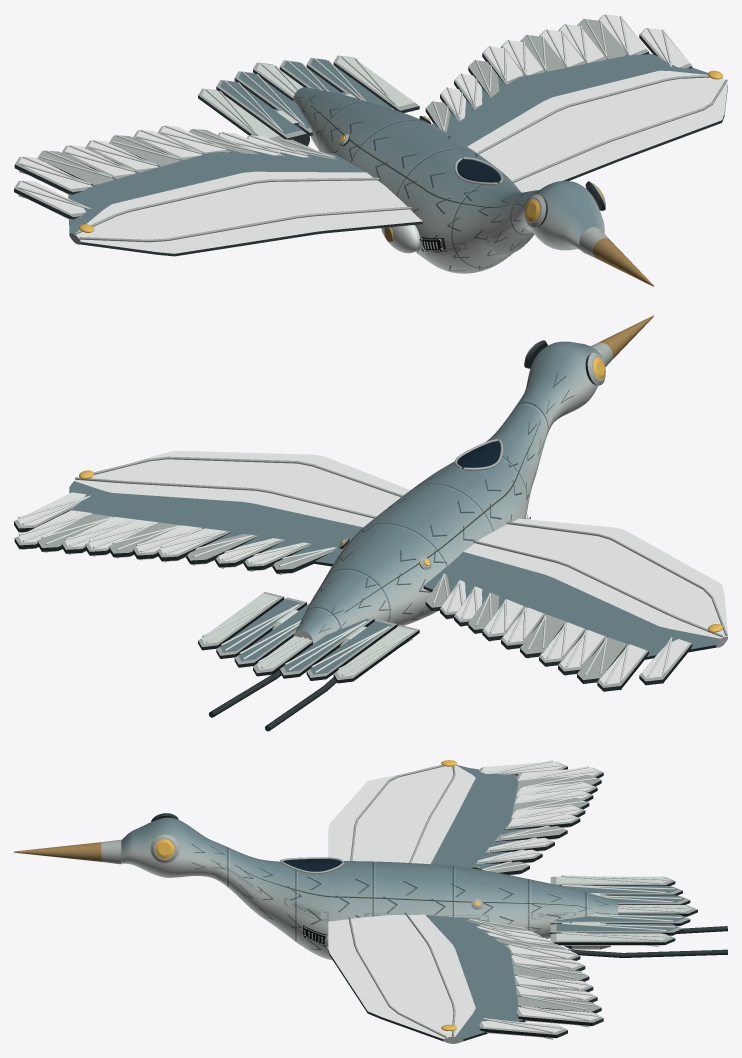
Rendered from ship.glb.
3 views of the same model, one above another, from view 1: azimuth 30°, elevation 25°; view 2: azimuth 150°, elevation 25°; view 3: azimuth 270°, elevation 25° (orthographic). The views are drawn at different scales.
Visible parts, largest first — view 1: egret_hull; view 2: egret_hull; view 3: egret_hull.
Boxes of the visible parts, <box> form: egret_hull: <box>14,14,727,286</box>; egret_hull: <box>14,315,727,731</box>; egret_hull: <box>14,760,727,1043</box>.
Bounding box in the file's own units: 57.92 × 13.46 × 64.
Materials: 1 (1 with a texture image).
